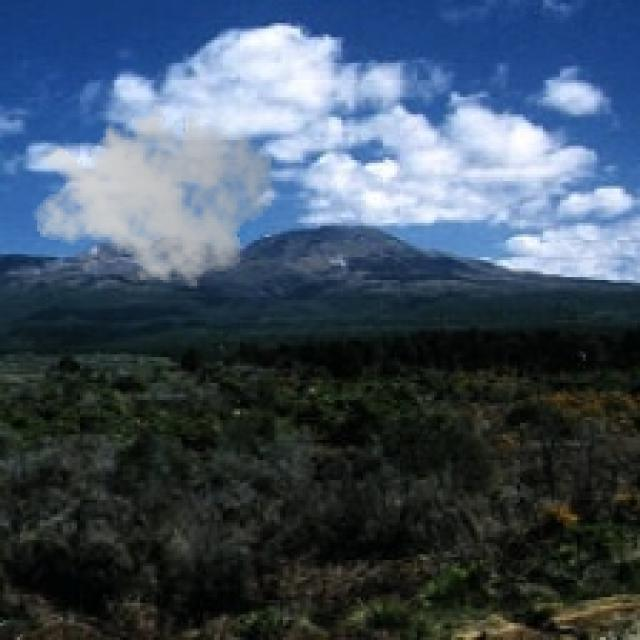Smoke: (31, 92, 278, 294)
